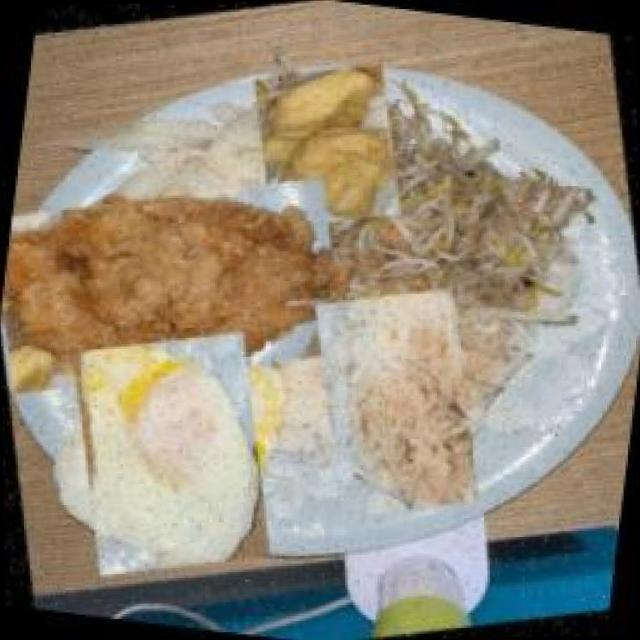chicken_nuggets: (233, 44, 421, 246)
fried_chicken: (0, 131, 367, 435)
fried_eggs: (30, 312, 308, 590)
mung_bean_sprouts: (339, 116, 578, 354)
rice: (272, 279, 519, 526)
